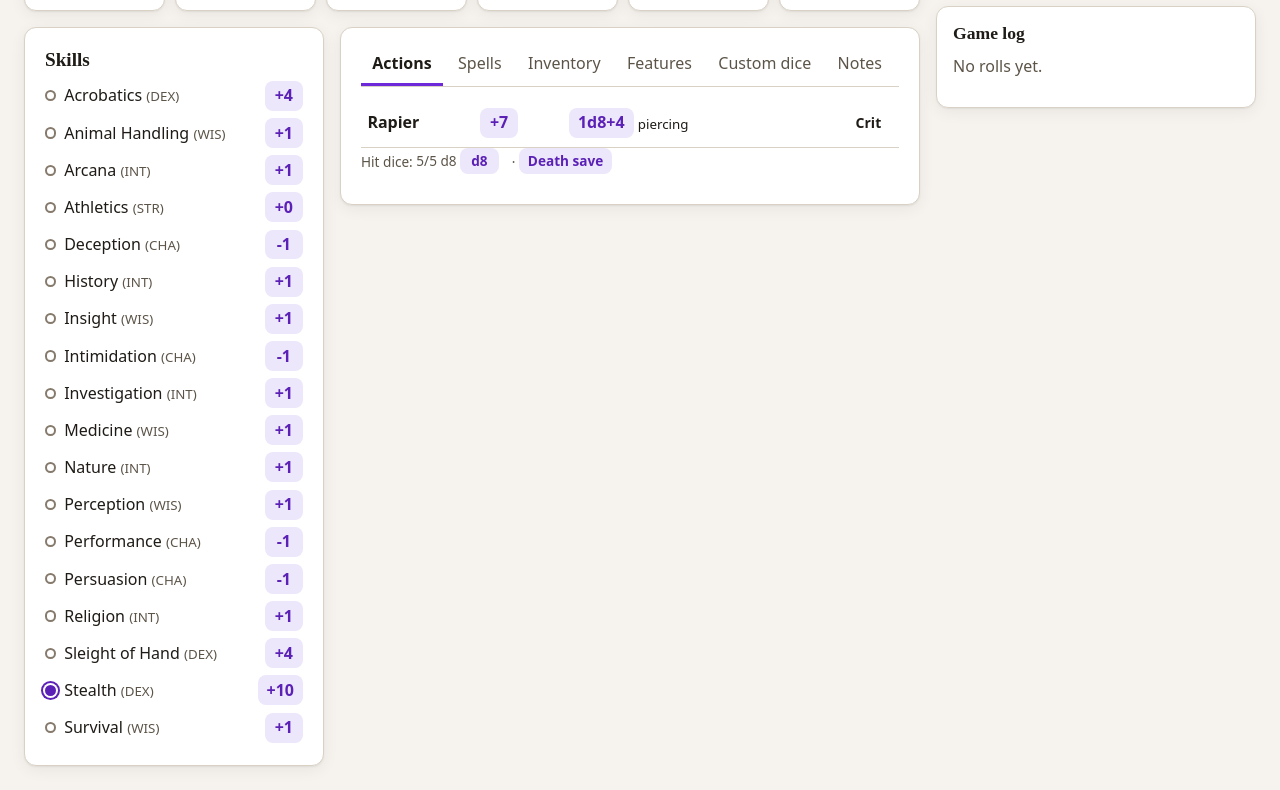
Test: M10.1 polish › P4: naturals are labelled in words
The image size is (1280, 790).
(page scrolled)
What coordinates should you click on to do the following:
click the button named "Stealth +10"
I would click on:
 (280, 690)
Its box is x1=258 y1=675 x2=303 y2=705.
(page scrolled)
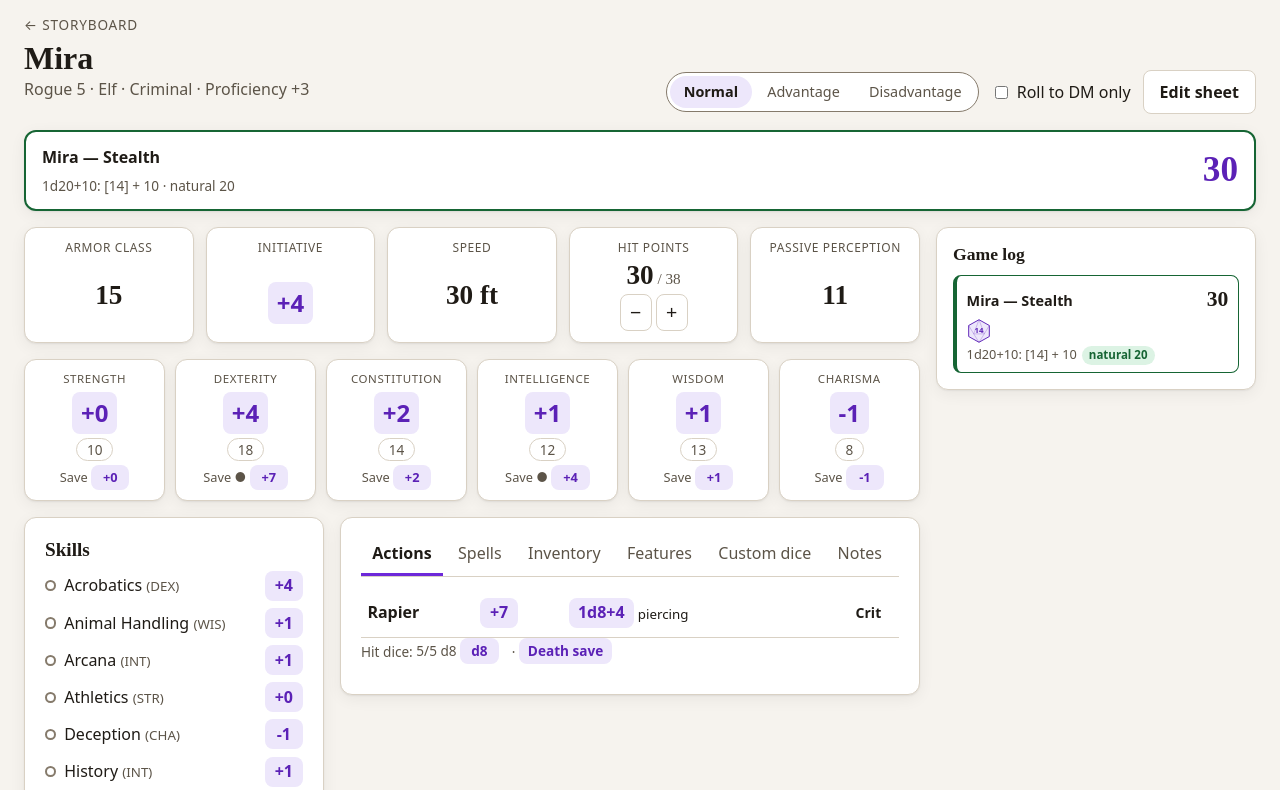
Check: the message shows "natural 20", box x1=159 y1=176 x2=235 y2=195
